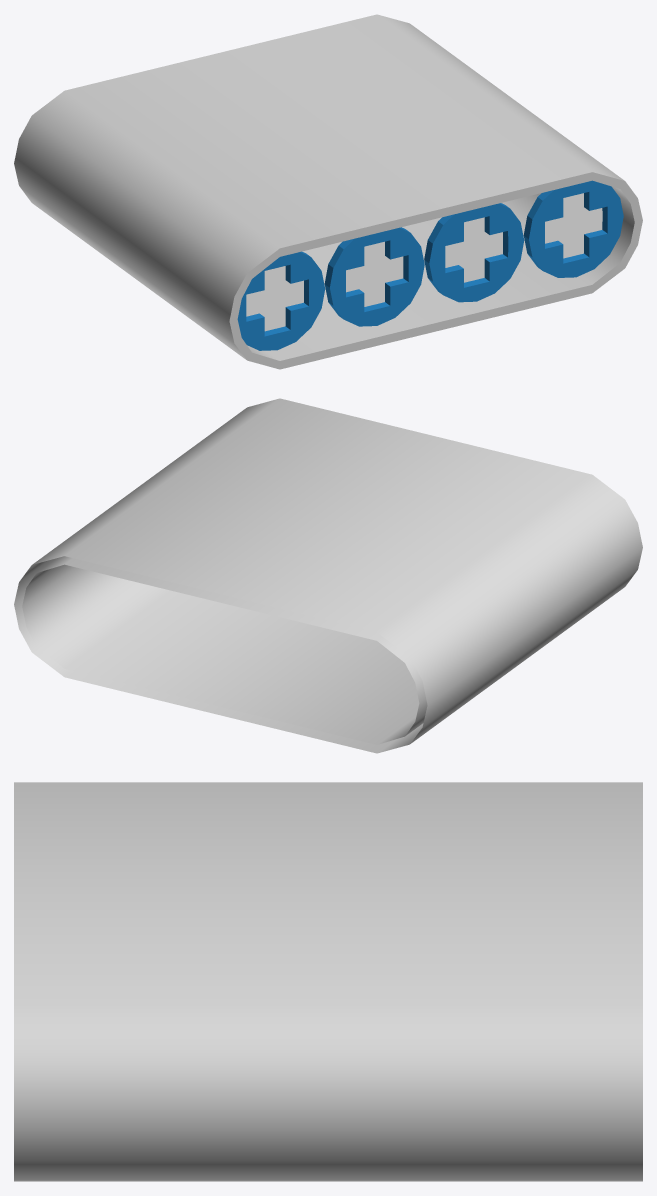
Rendered from Conveyer.fbx.
3 views of the same model, one above another, from view 1: azimuth 30°, elevation 25°; view 2: azimuth 150°, elevation 25°; view 3: azimuth 270°, elevation 25° (orthographic). The views are drawn at different scales.
Visible parts, largest first — view 1: Belt, Circle.001, Circle.002, Circle.003, Circle; view 2: Belt; view 3: Belt.
Part boxes in pixels (<box>): Belt: <box>14,14,642,369</box>; Circle.001: <box>324,227,424,326</box>; Circle.002: <box>424,203,524,302</box>; Circle.003: <box>523,180,623,277</box>; Circle: <box>237,251,325,350</box>; Belt: <box>14,398,642,753</box>; Belt: <box>14,782,642,1181</box>.
Bounding box in the file's own units: 166 × 46.56 × 150.
